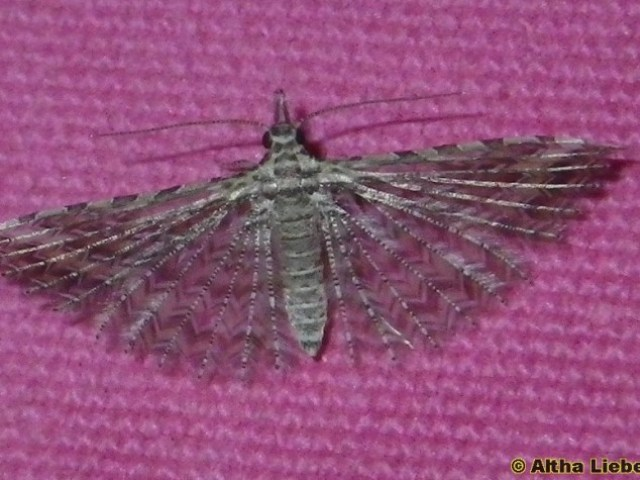Alucitidae: (1, 78, 629, 394)
moth: (2, 80, 631, 396)
